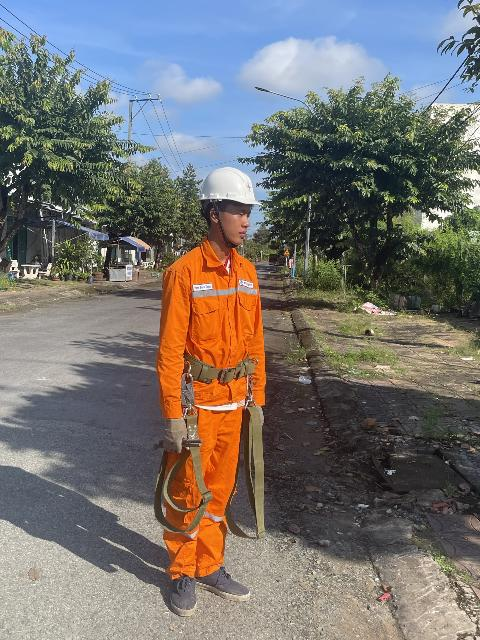gloves: (153, 408, 196, 465), (253, 401, 272, 428)
harness: (156, 349, 282, 403)
helmet: (181, 155, 269, 222)
shoes: (201, 562, 255, 609), (164, 570, 204, 622)
